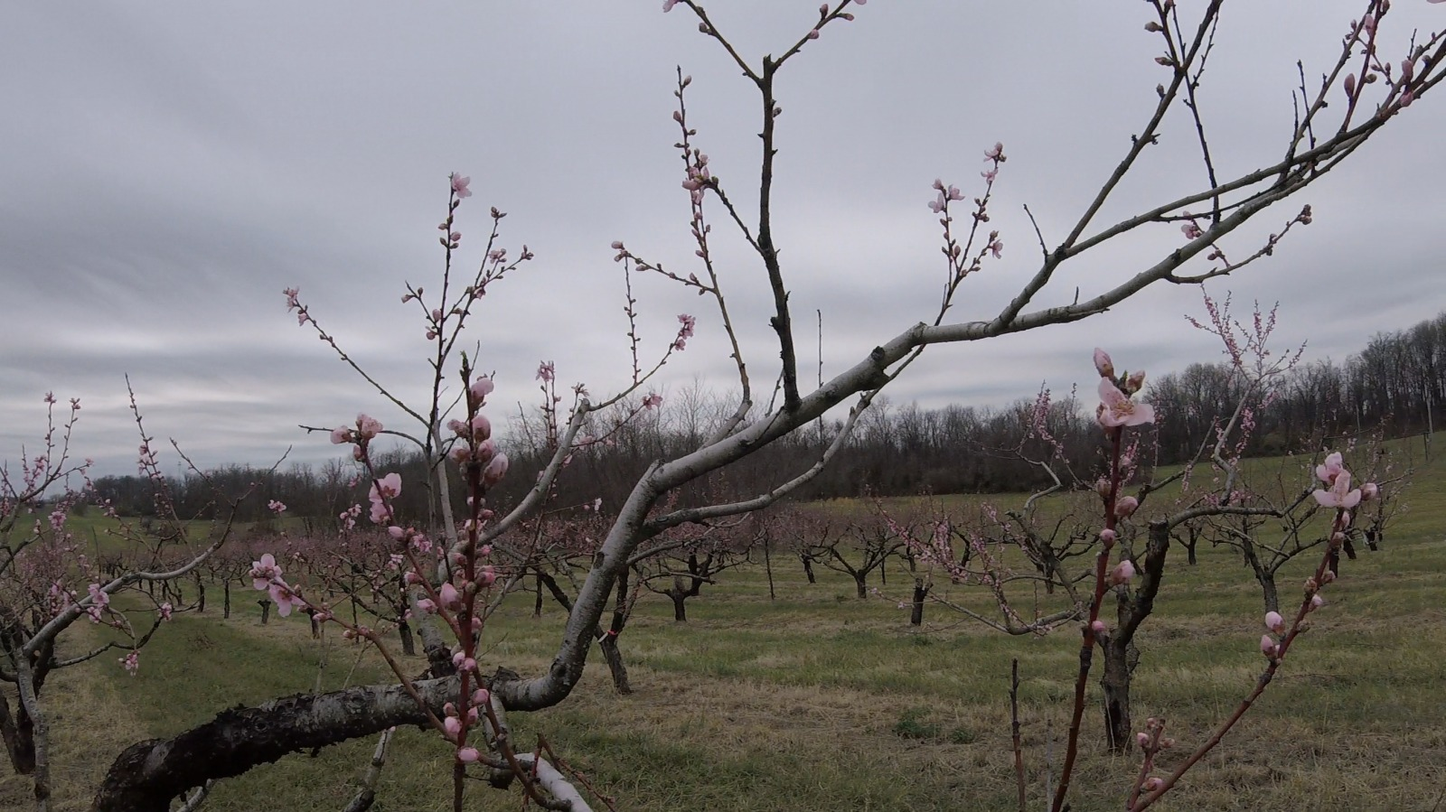flower: (1094, 349, 1159, 426), (249, 554, 305, 618), (1313, 452, 1361, 510), (670, 314, 696, 351), (87, 583, 109, 623), (977, 132, 1003, 163), (369, 481, 388, 523), (682, 166, 704, 201), (469, 371, 495, 400), (356, 414, 386, 438), (484, 452, 512, 476), (448, 172, 472, 199), (378, 473, 402, 498), (458, 746, 492, 762), (283, 286, 302, 313), (953, 225, 969, 257), (380, 527, 405, 545), (440, 583, 459, 606), (486, 247, 507, 267), (472, 415, 492, 436), (981, 163, 999, 185), (331, 425, 350, 445), (928, 192, 946, 213), (1265, 611, 1282, 629), (946, 185, 965, 201), (1119, 560, 1136, 577), (471, 689, 489, 704), (459, 657, 477, 671), (445, 717, 460, 733), (993, 239, 1004, 259), (663, 0, 678, 14), (1262, 635, 1275, 651), (298, 313, 312, 327), (427, 327, 438, 341), (933, 180, 946, 190), (433, 309, 442, 322), (269, 308, 286, 314), (1113, 369, 1119, 380), (701, 188, 706, 200)
